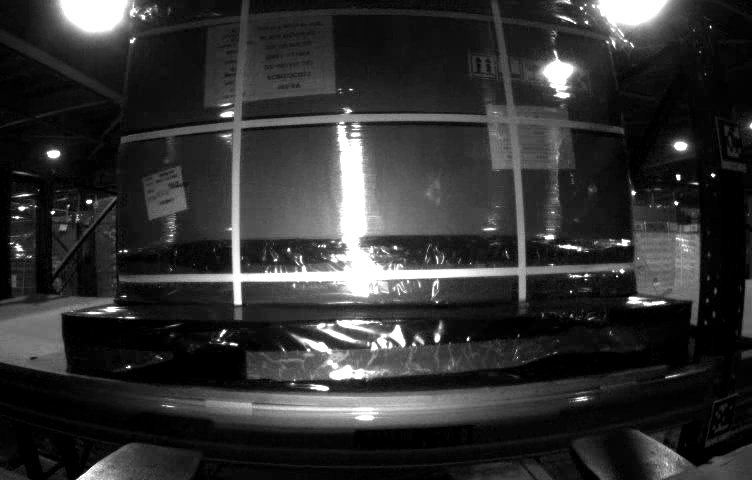True Barcode: (140, 166, 192, 221)
